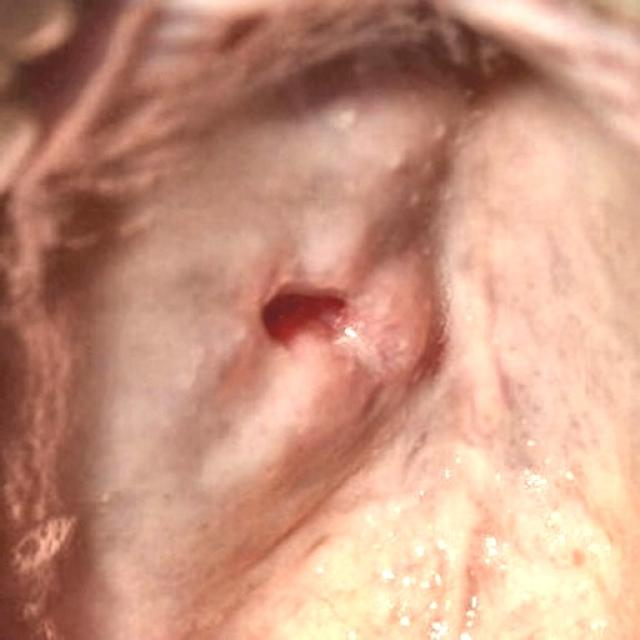cancer-detection: (165, 228, 464, 444)
processing_area: (1, 0, 639, 639)
